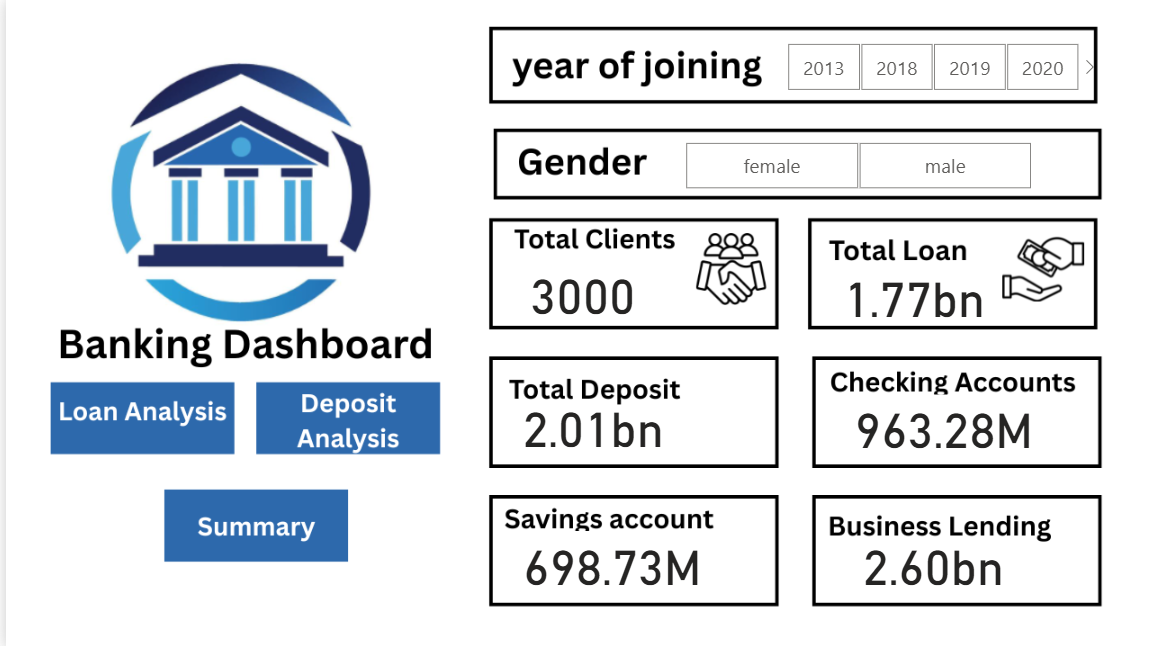

This screenshot's page, from the dashboard's own definition file:
{"tool":"powerbi","page":{"name":"HOME","canvas":[1280,720],"ordinal":0},"visuals":[{"type":"card","fields":{"Values":["banking_case customer.Name"]},"box":[551.8,287.2,177.6,71.8],"z":0},{"type":"slicer","fields":{"Values":["banking_case customer.GenderId"]},"box":[729.5,151.2,432.8,64.3],"z":1000},{"type":"card","fields":{"Values":["banking_case customer.Bank Loans"]},"box":[920.3,292.9,177.6,66.1],"z":2000},{"type":"card","fields":{"Values":["banking_case customer.Bank Deposits"]},"box":[551.8,438.4,200.3,64.3],"z":3000},{"type":"slicer","fields":{"Values":["banking_case customer.Year of joining"]},"box":[843,41.4,372.2,65.2],"z":4000},{"type":"card","fields":{"Values":["banking_case customer.Checking Accounts"]},"box":[919.4,439,243.4,66.8],"z":5000},{"type":"card","fields":{"Values":["banking_case customer.Saving Accounts"]},"box":[551.9,590.1,243.4,66.8],"z":6000},{"type":"card","fields":{"Values":["banking_case customer.Business Lending"]},"box":[908.2,590.1,243.4,66.8],"z":7000},{"type":"actionButton","box":[51.7,426.7,201.7,76.7],"z":8000},{"type":"actionButton","box":[278.3,425,205,78.3],"z":9000},{"type":"actionButton","box":[176.7,545,205,78.3],"z":10000}]}

Visuals, with their boxes in screenshot pixels (x1, y1, x2, y2), scaled from the page's 1280x720 canvas onto the 1153x646 screenshot:
card - banking_case customer.Name: left=497, top=258, right=657, bottom=322
slicer - banking_case customer.GenderId: left=657, top=136, right=1047, bottom=193
card - banking_case customer.Bank Loans: left=829, top=263, right=989, bottom=322
card - banking_case customer.Bank Deposits: left=497, top=393, right=677, bottom=451
slicer - banking_case customer.Year of joining: left=759, top=37, right=1095, bottom=96
card - banking_case customer.Checking Accounts: left=828, top=394, right=1047, bottom=454
card - banking_case customer.Saving Accounts: left=497, top=529, right=716, bottom=589
card - banking_case customer.Business Lending: left=818, top=529, right=1037, bottom=589
actionButton: left=47, top=383, right=228, bottom=452
actionButton: left=251, top=381, right=435, bottom=452
actionButton: left=159, top=489, right=344, bottom=559
